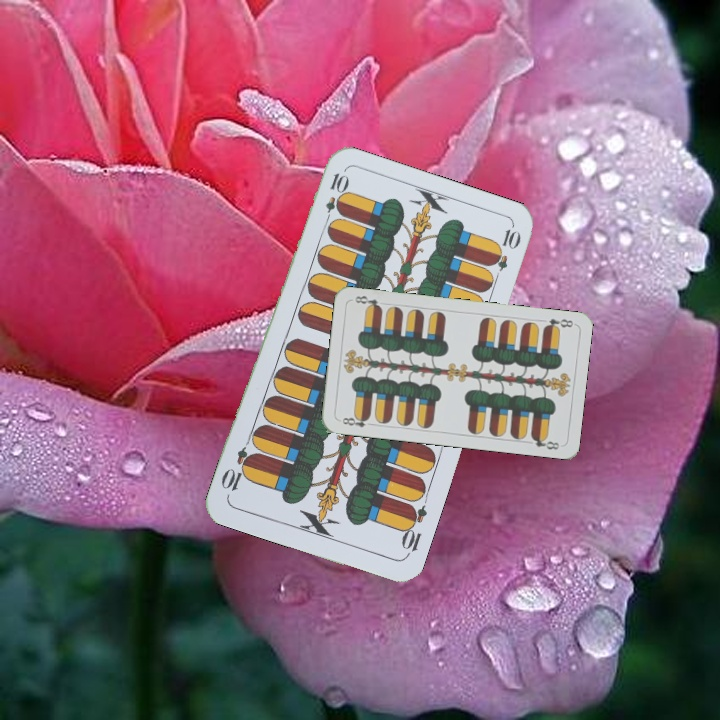E10: (397, 500, 430, 560), (320, 169, 349, 228)
E8: (338, 411, 376, 430), (540, 314, 576, 333)
